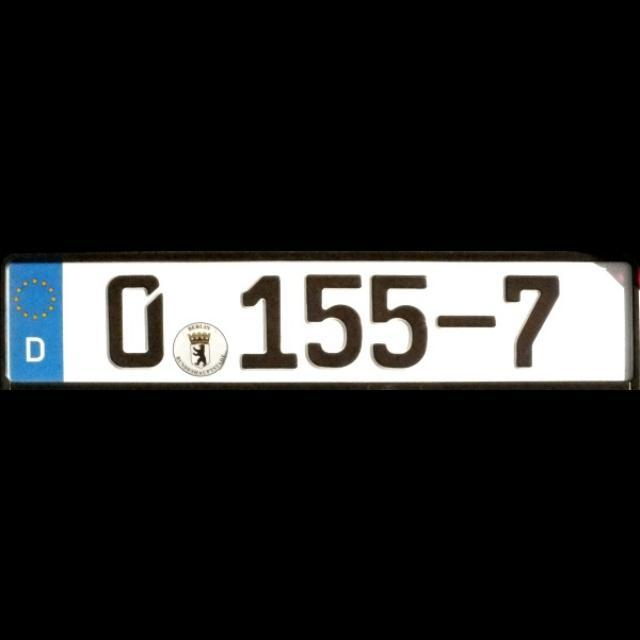license-plates: (0, 252, 640, 390)
